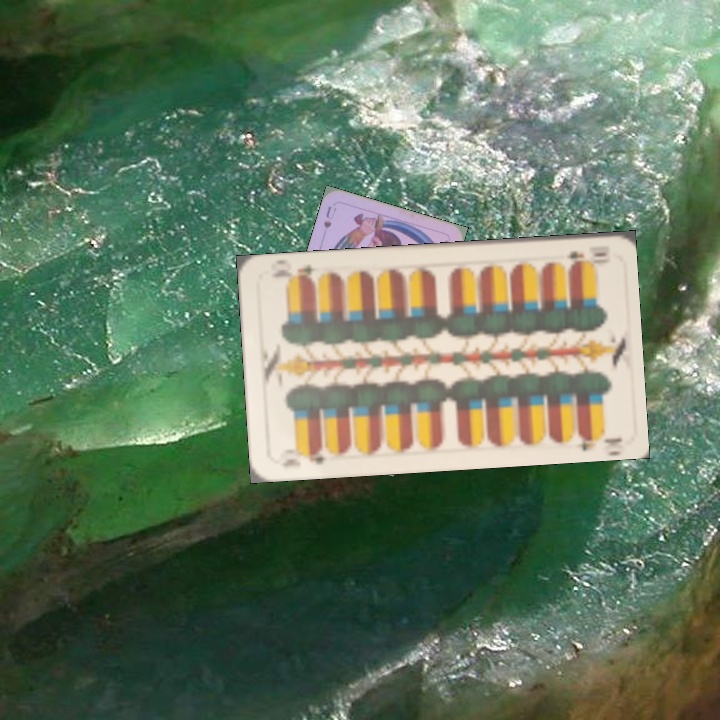E10: (564, 247, 611, 268), (294, 443, 328, 468)
SU: (319, 202, 339, 231)
